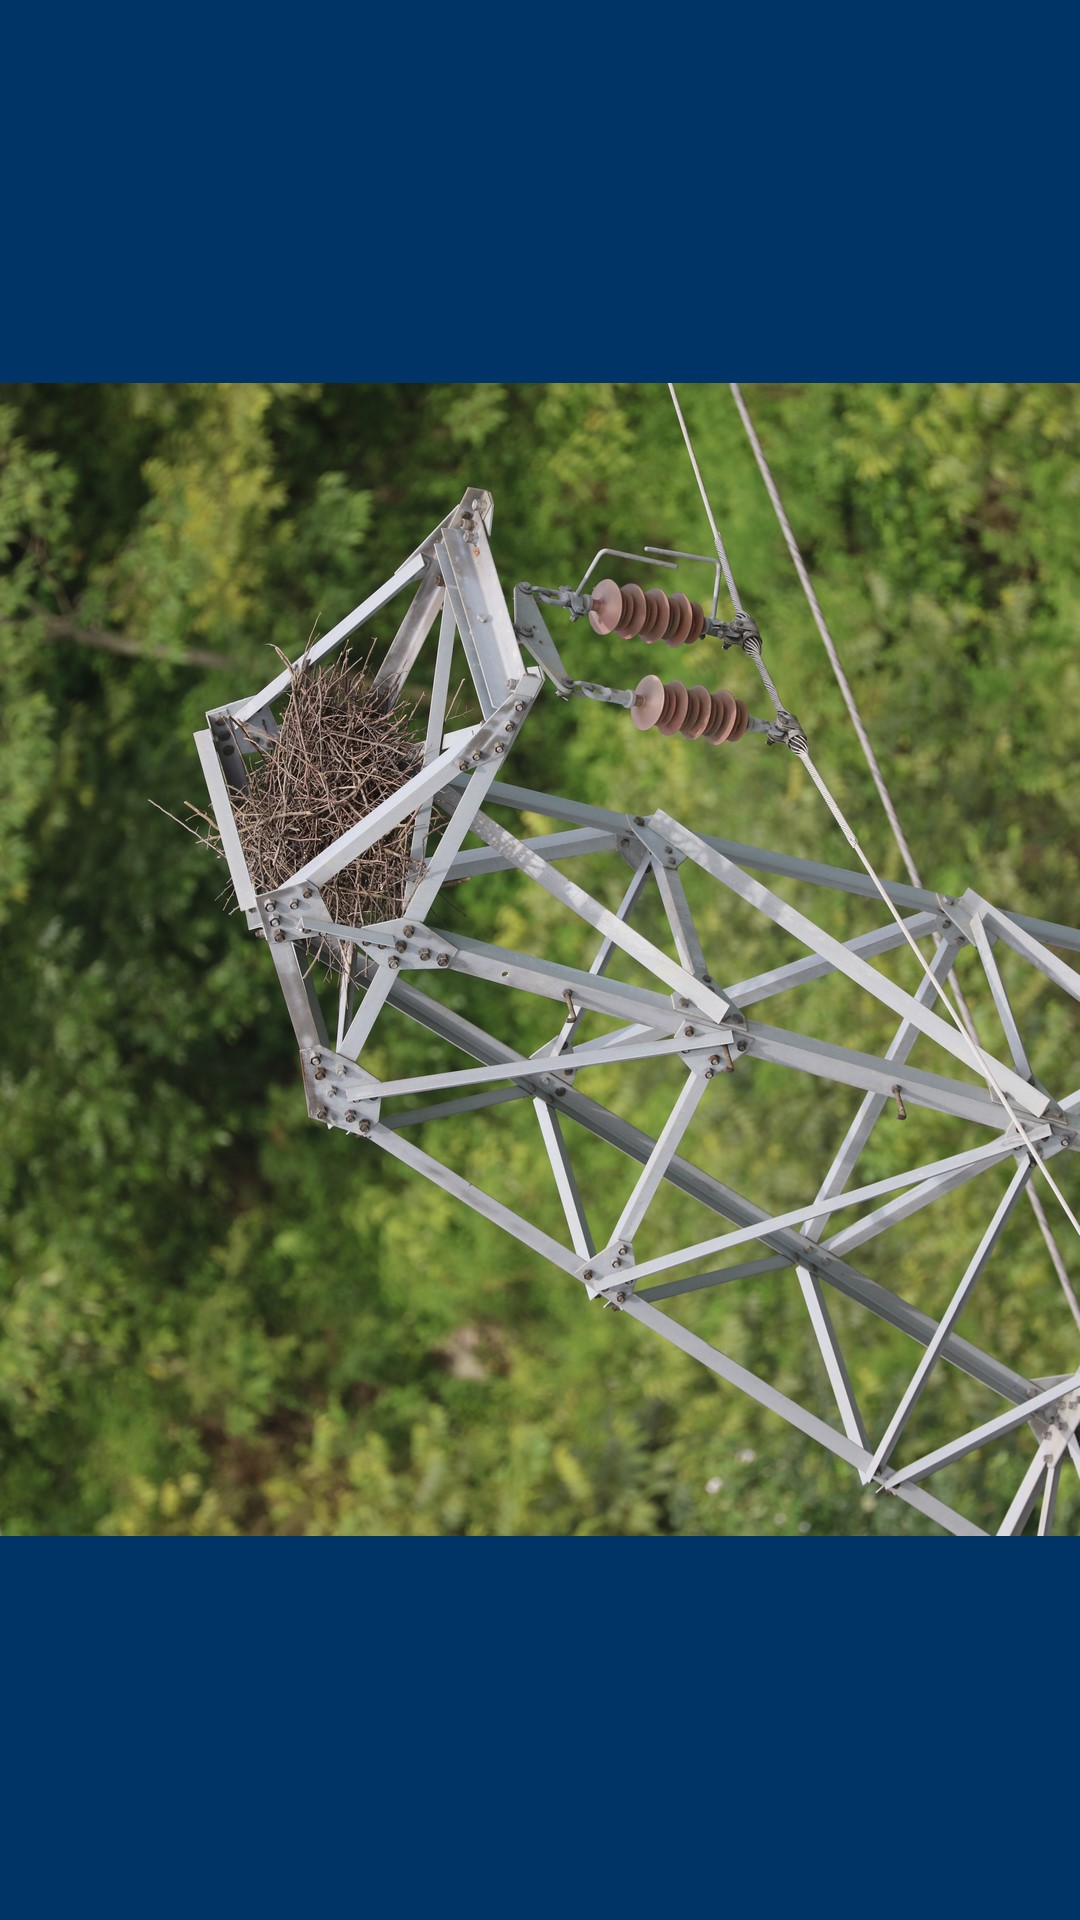niaowo: (196, 640, 456, 928)
